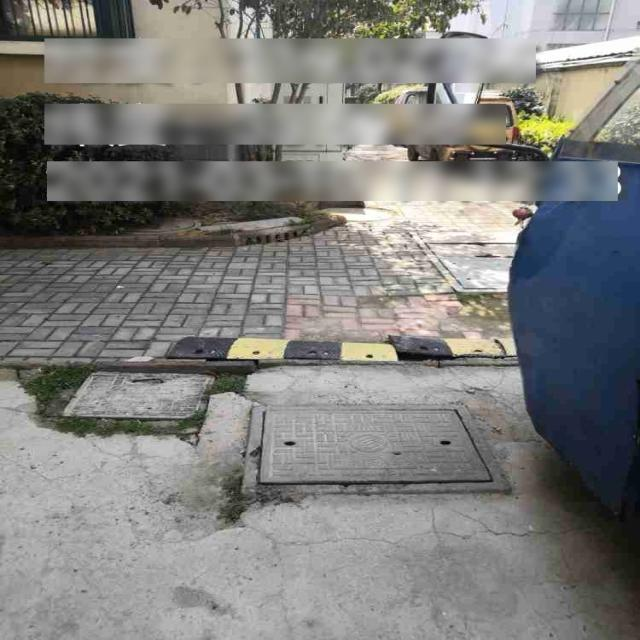Good: (246, 401, 510, 502), (47, 361, 227, 433)
